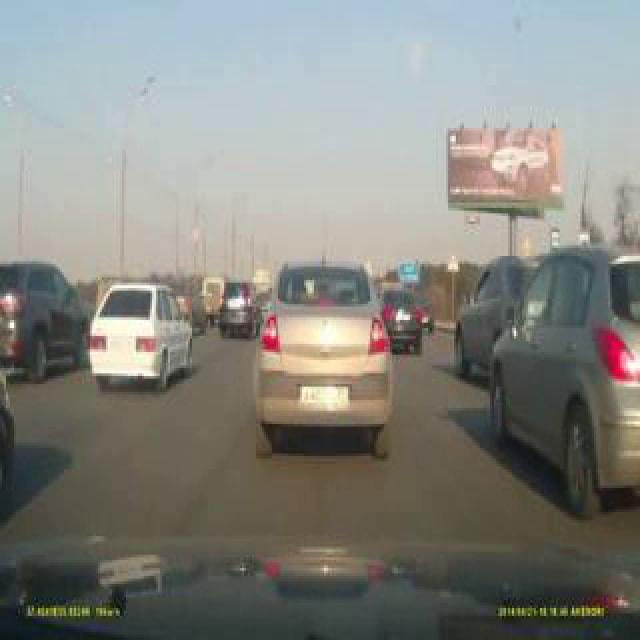explosion: (230, 46, 493, 591)
